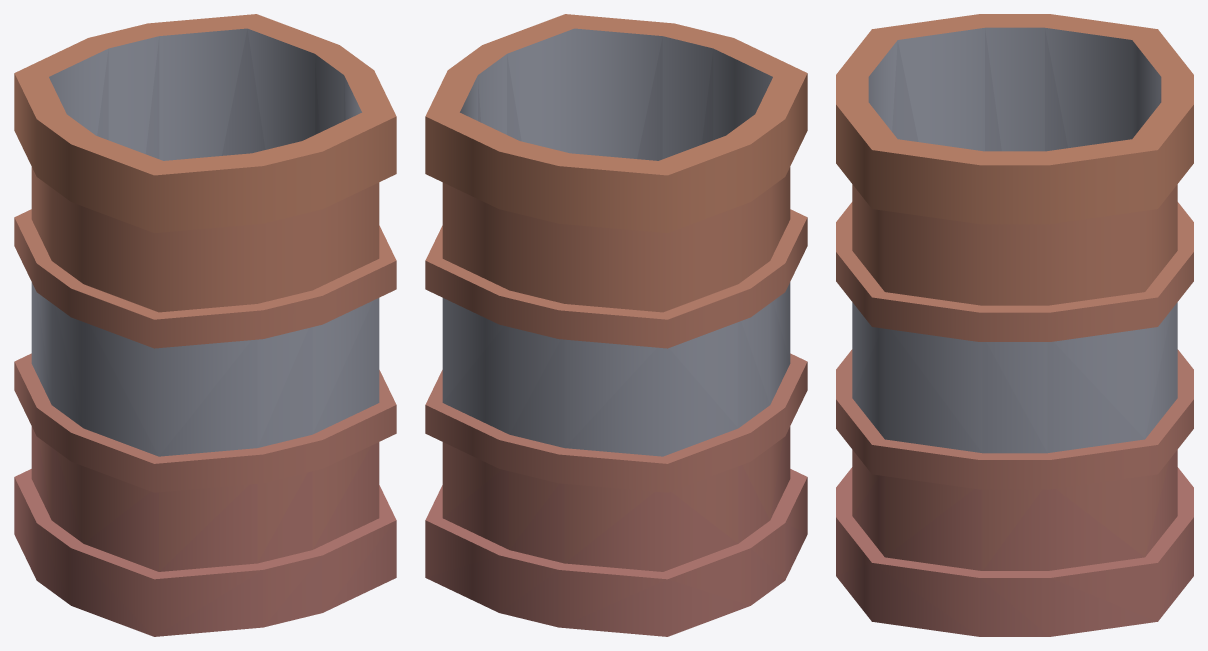
The model's file is ksv_barrel-open.fbx.
The picture shows the model from 3 angles, left to right: view 1: azimuth 30°, elevation 25°; view 2: azimuth 150°, elevation 25°; view 3: azimuth 270°, elevation 25°; orthographic projection. The views are drawn at different scales.
Parts seen in each view (by area): view 1: barrel-open; view 2: barrel-open; view 3: barrel-open.
Boxes of the visible parts, x1,y1,x2,y2 form: barrel-open: (14,14,396,636); barrel-open: (425,14,807,636); barrel-open: (836,14,1193,636).
Size of the model in its own units: 23.65 by 34.4 by 23.65.
